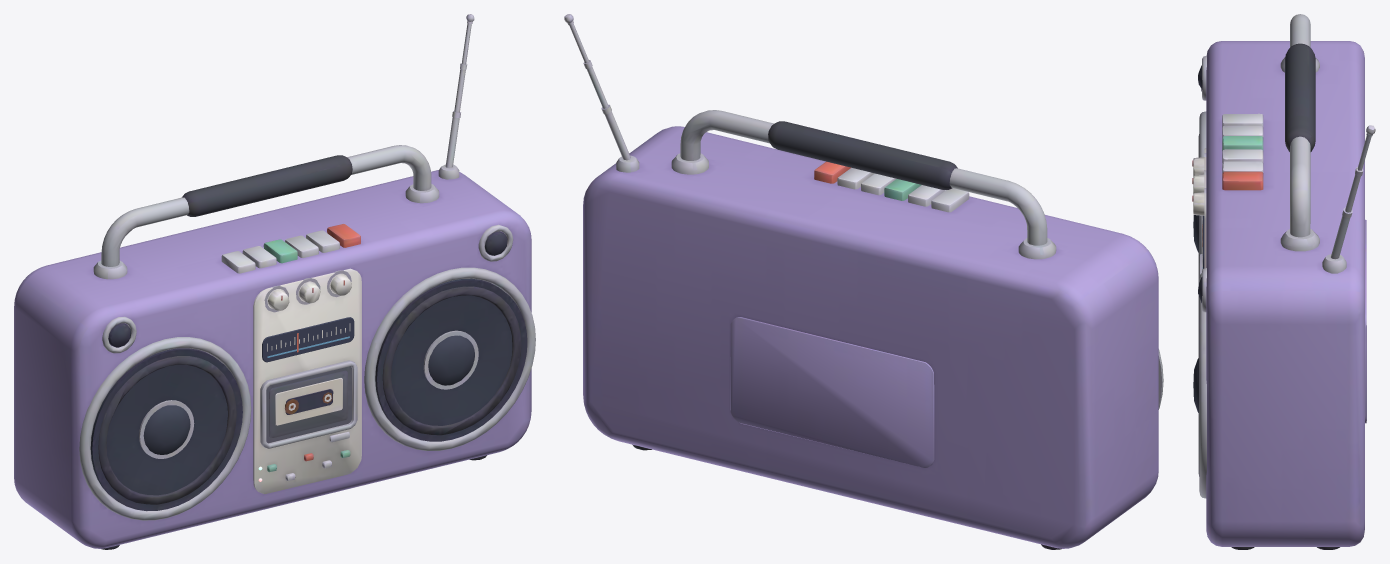
The model's file is boombox.glb.
3 renders of one model, left to right at view 1: azimuth 30°, elevation 25°; view 2: azimuth 150°, elevation 25°; view 3: azimuth 270°, elevation 25°, orthographic. The views are drawn at different scales.
Parts seen in each view (by area): view 1: boombox_body, boombox_window_glass, boombox_scale_glass; view 2: boombox_body; view 3: boombox_body.
Boxes of the visible parts, box(x1,y1,x2,y2) form: boombox_body: box(14, 14, 535, 549); boombox_window_glass: box(267, 367, 352, 443); boombox_scale_glass: box(262, 317, 354, 362); boombox_body: box(564, 14, 1163, 549); boombox_body: box(1192, 14, 1375, 549).
Size of the model in its own units: 0.5093 by 0.4039 by 0.15.
Materials: 7 (7 with a texture image).
